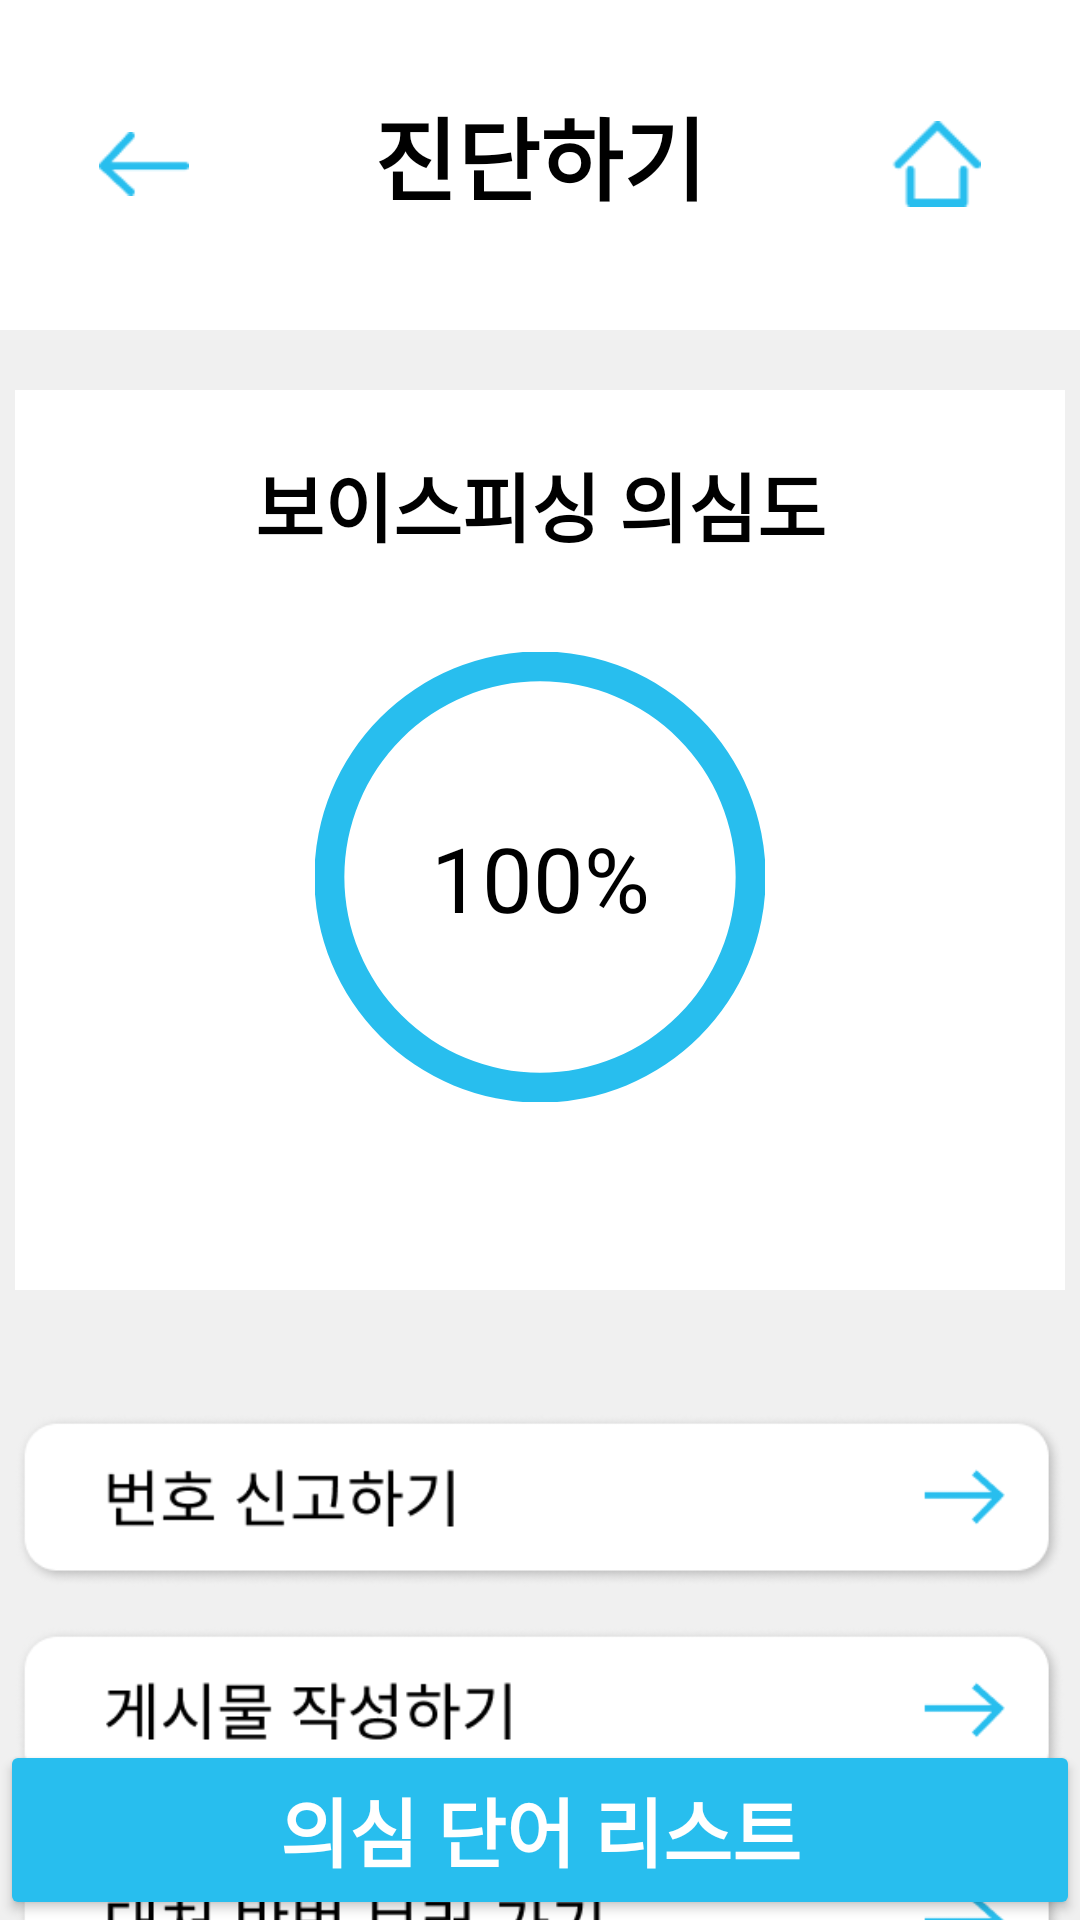

Icons on this 1080px x 1920px Android screen, each with the point to tap as [x,y]:
backbtn: [144,164]
homebtn: [937,164]
